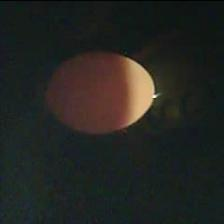fertile: (42, 49, 156, 136)
